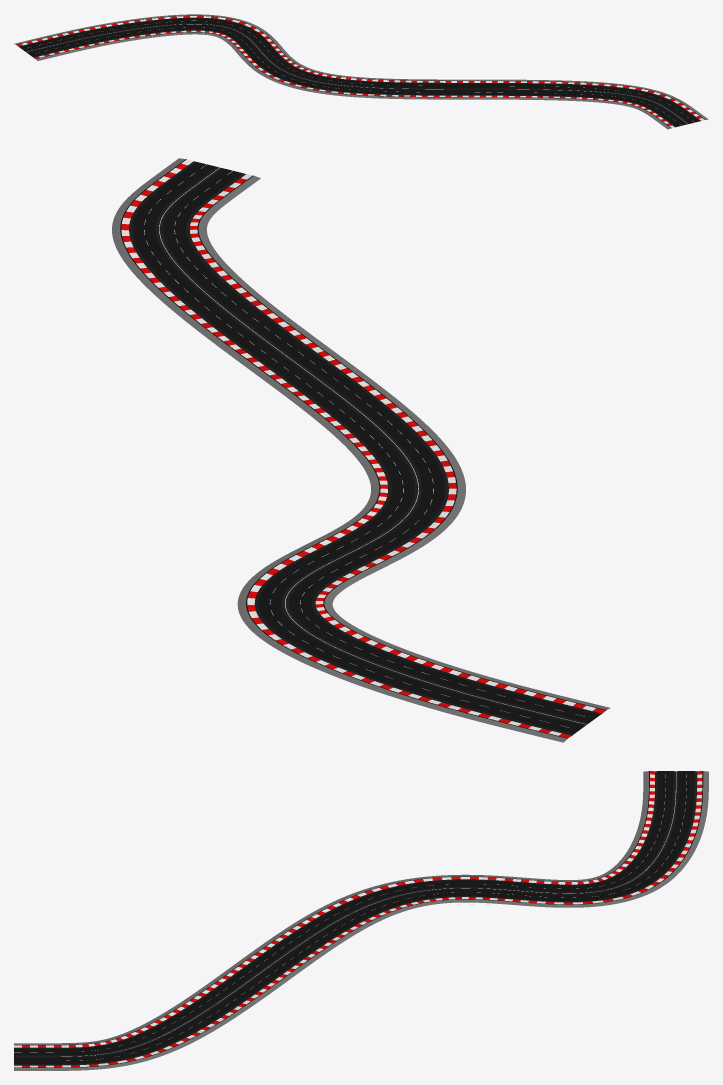
The model's file is S0.3c3h0-seek.glb.
The picture shows the model from 3 angles, top to bottom: view 1: azimuth 30°, elevation 25°; view 2: azimuth 150°, elevation 25°; view 3: azimuth 270°, elevation 25°; orthographic projection. The views are drawn at different scales.
Parts seen in each view (by area): view 1: Grid; view 2: Grid; view 3: Grid.
Boxes of the visible parts, box(x1,y1,x2,y2) form: Grid: box(14, 14, 708, 129); Grid: box(112, 158, 610, 742); Grid: box(14, 771, 708, 1070).
Size of the model in its own units: 270 by 0.31 by 265.
